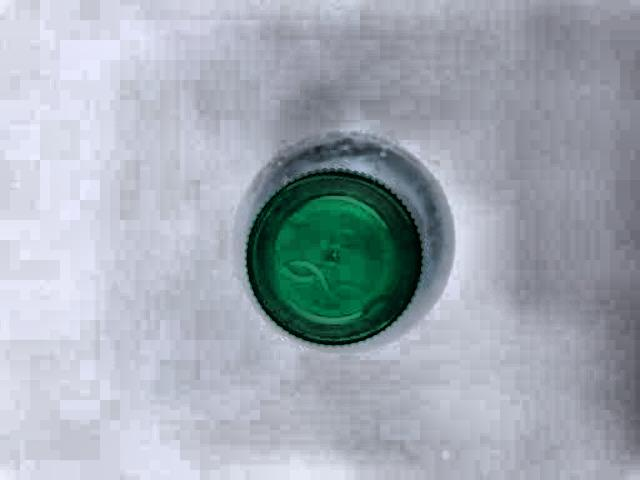Bottles: (244, 131, 442, 348)
